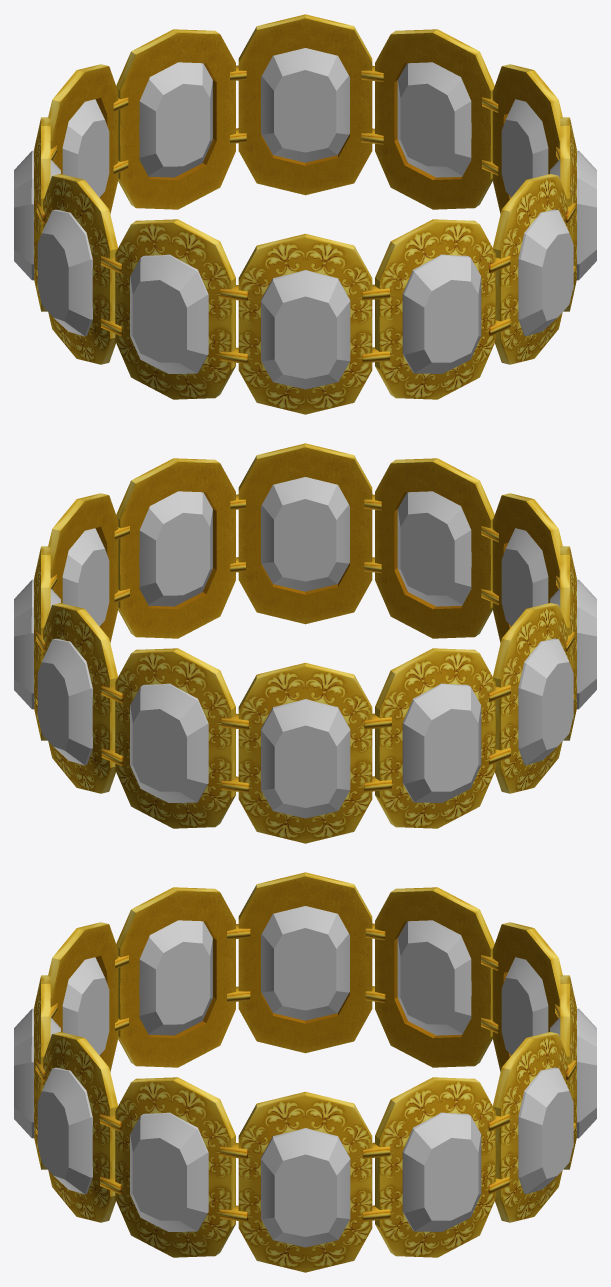
The model's file is bracelet_03.fbx.
The picture shows the model from 3 angles, top to bottom: view 1: azimuth 30°, elevation 25°; view 2: azimuth 150°, elevation 25°; view 3: azimuth 270°, elevation 25°; orthographic projection.
Visible parts, largest first — view 1: bracelet_03; view 2: bracelet_03; view 3: bracelet_03.
Boxes of the visible parts, x1,y1,x2,y2 form: bracelet_03: (14, 14, 596, 414); bracelet_03: (14, 443, 596, 843); bracelet_03: (14, 872, 596, 1272).
Size of the model in its own units: 7.94 by 2.66 by 7.94.
